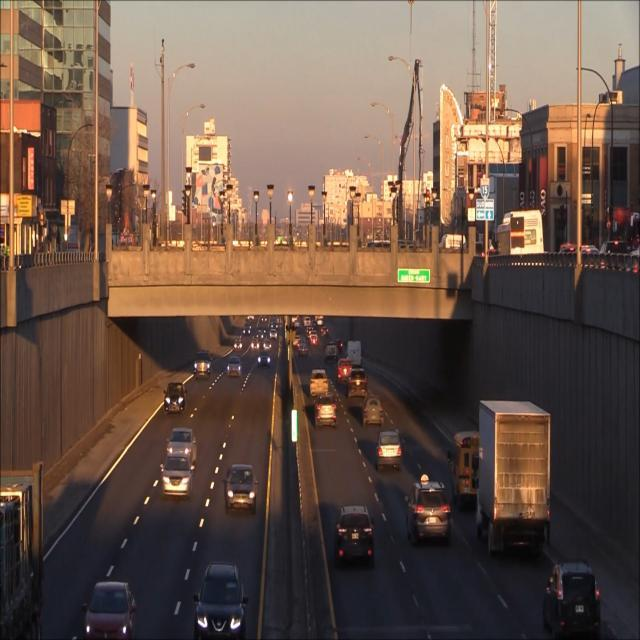Car: (542, 559, 601, 638), (192, 560, 248, 639), (403, 473, 452, 544), (81, 580, 137, 639), (333, 503, 375, 565), (224, 463, 258, 511), (374, 428, 403, 471), (163, 381, 186, 413)
Truck: (473, 399, 551, 556)
